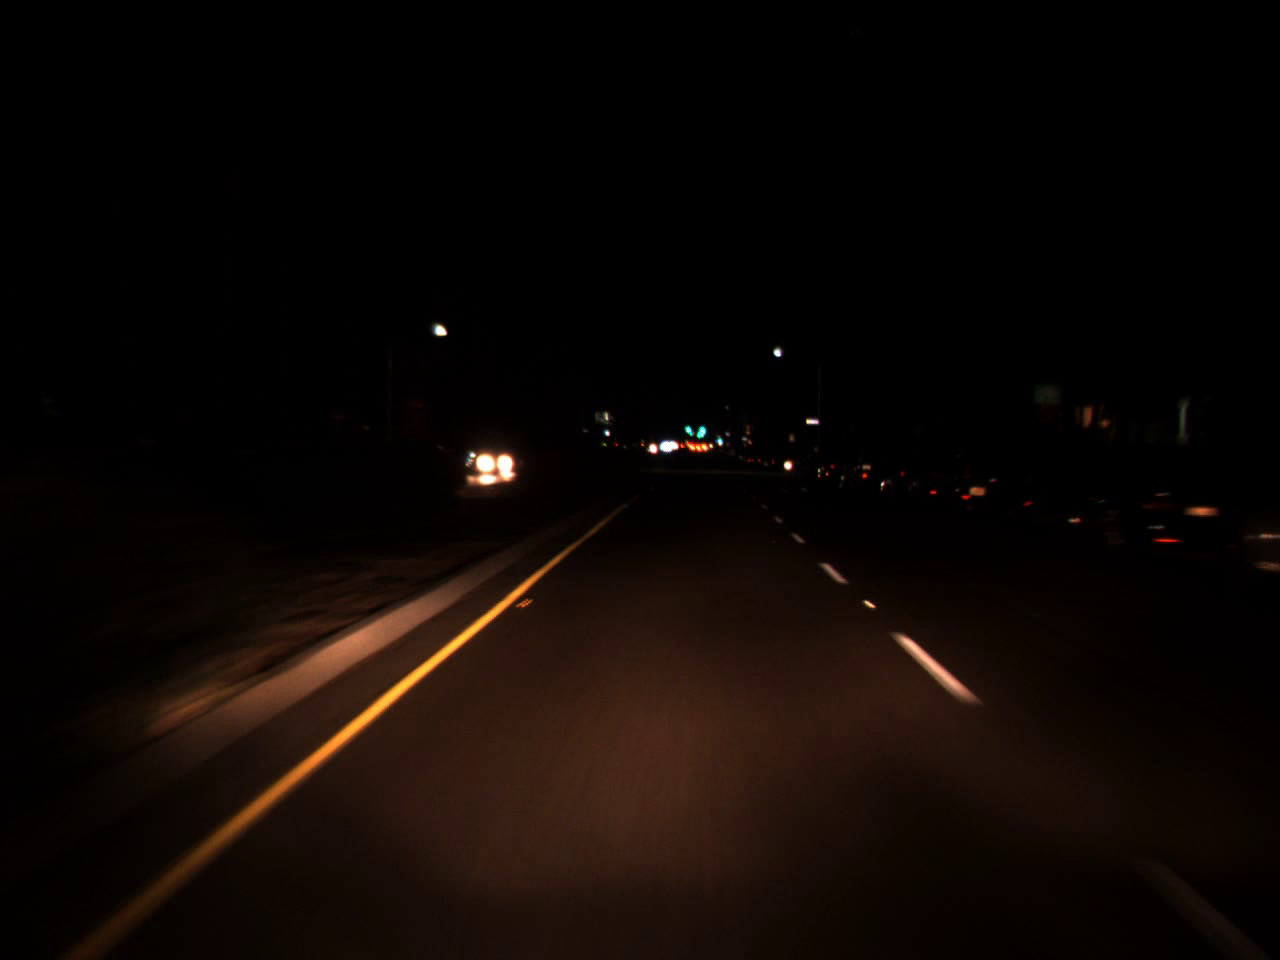go: (683, 412, 693, 439), (697, 418, 707, 436), (716, 432, 723, 444)
